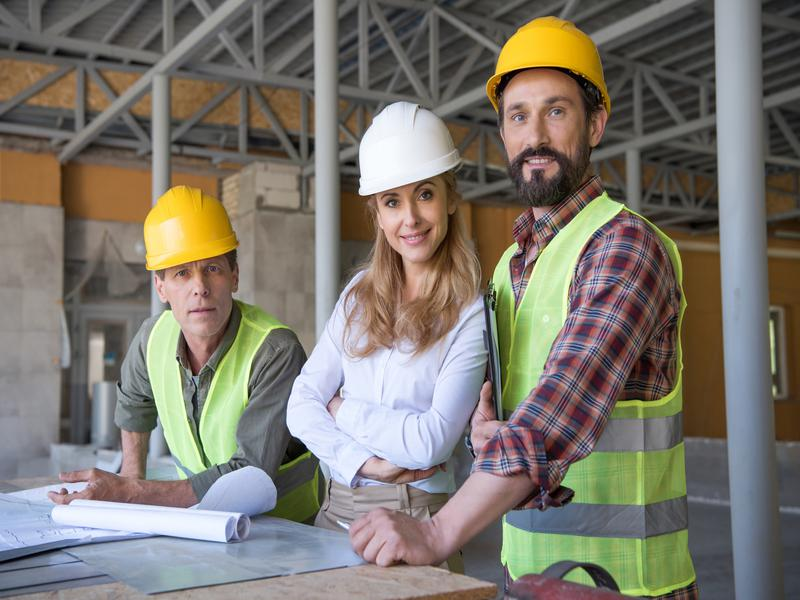hard-hat: (483, 14, 615, 116), (356, 99, 466, 198), (141, 183, 244, 274)
